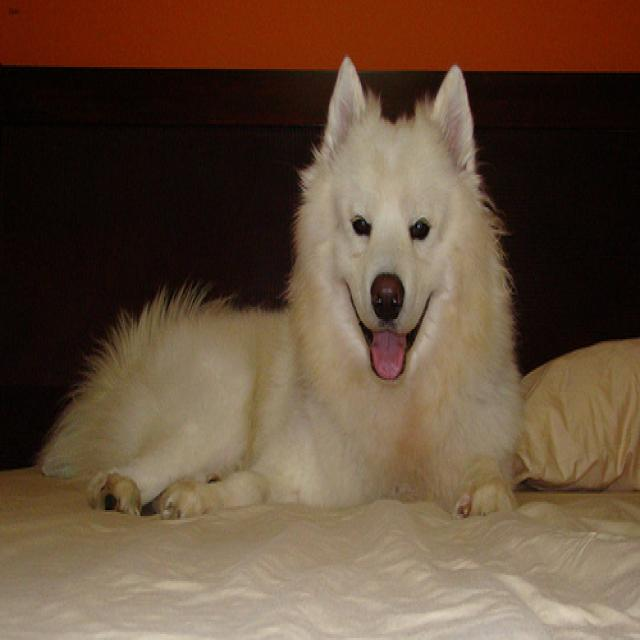dog-samoyed: (29, 41, 530, 538)
